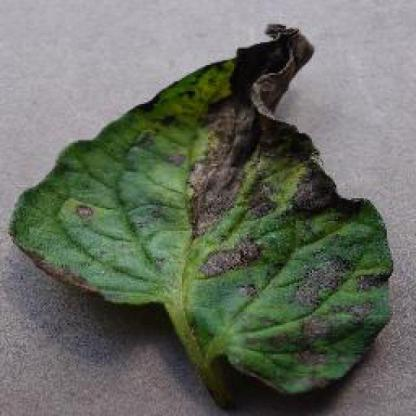Tomato_Blight: (10, 27, 397, 390)
